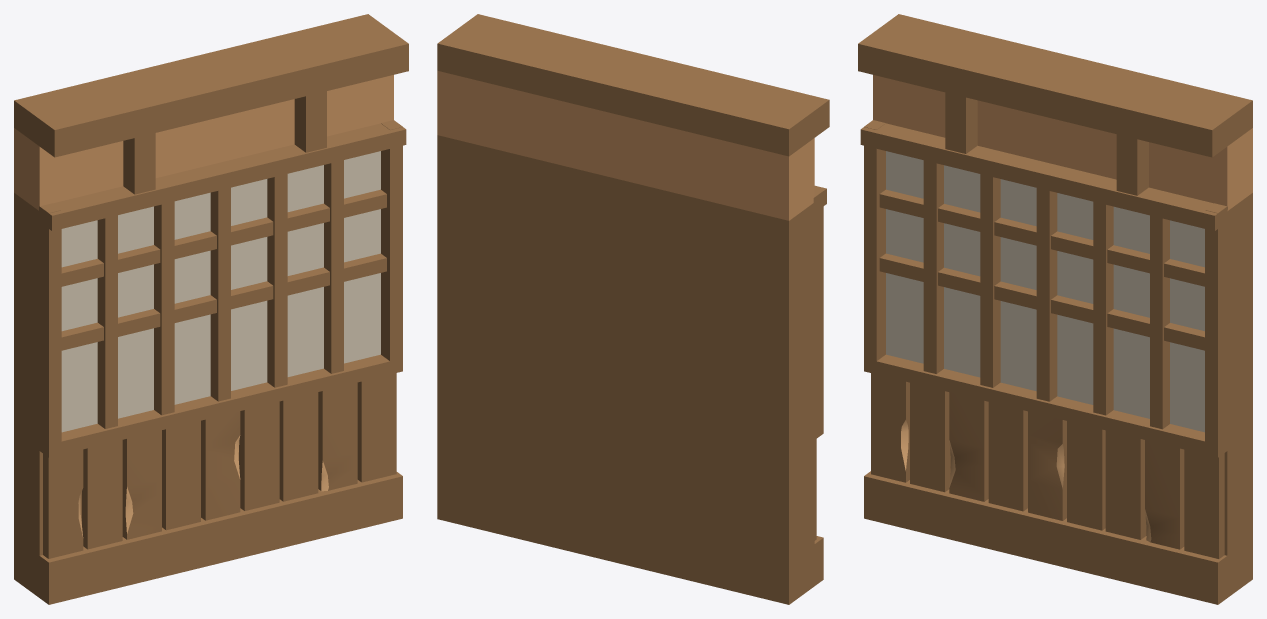
Rendered from ShojiWall.glb.
3 renders of one model, left to right at view 1: azimuth 30°, elevation 25°; view 2: azimuth 150°, elevation 25°; view 3: azimuth 330°, elevation 25°, orthographic.
Visible parts, largest first — view 1: Wall_Shoji; view 2: Wall_Shoji; view 3: Wall_Shoji.
Part boxes in pixels (<box>): Wall_Shoji: <box>14,14,408,604</box>; Wall_Shoji: <box>437,14,829,604</box>; Wall_Shoji: <box>858,14,1252,604</box>.
Size of the model in its own units: 4 by 5.17 by 0.7956.
2 materials, 1 textured.
